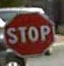stop: (1, 9, 54, 57)
